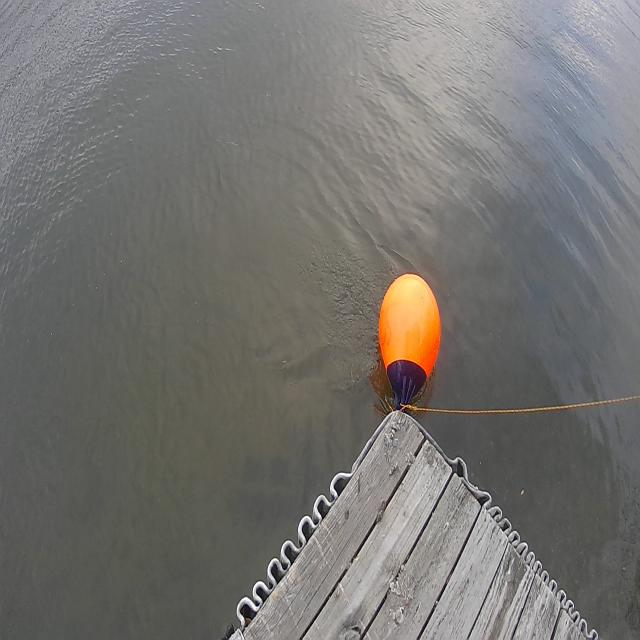Buoy: (372, 261, 448, 419)
